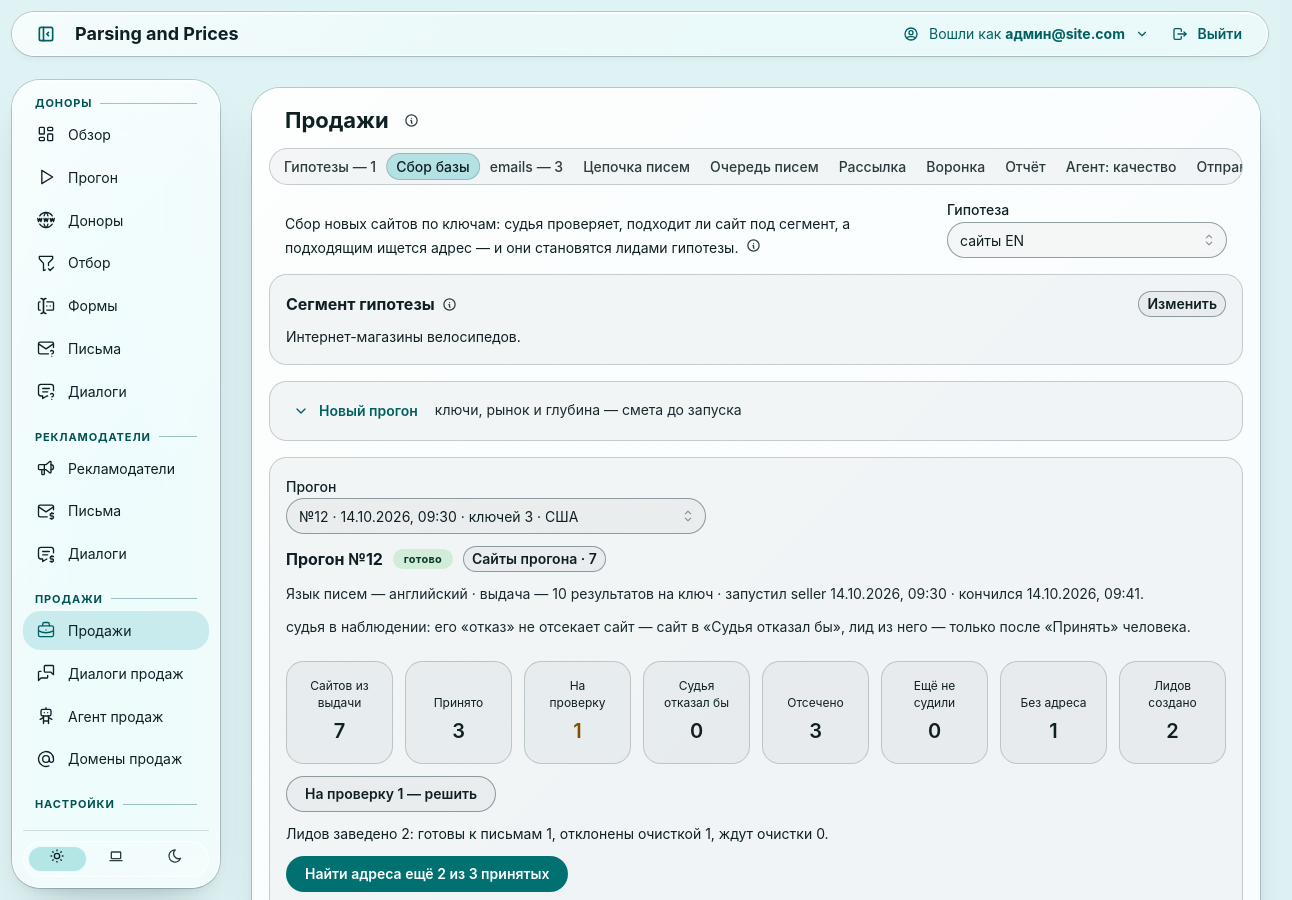
Test: сбор базы: ход прогона — экран › после «Найти адреса ещё …» экран сам переходит в «идёт» — без перезагрузки
This screenshot has width=1292, height=900.
Expected: the heading "Сегмент гипотезы" is shown, left=286, top=292, right=435, bottom=316
Click the button "Найти адреса ещё 2 из 3 принятых" at (427, 874), box left=286, top=856, right=568, bottom=892
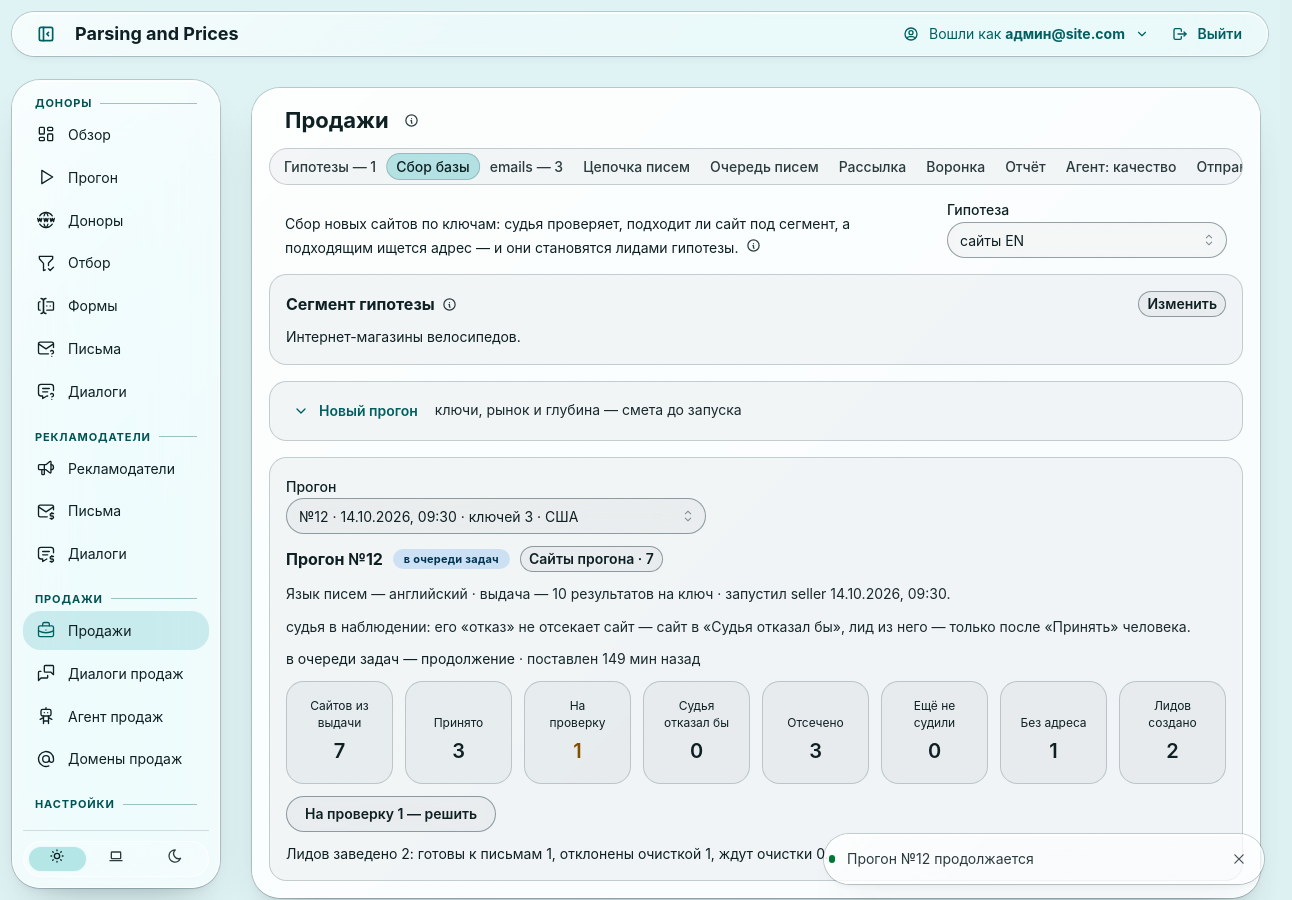
Expected: the message named "Ход прогона" shows "в очереди задач — продолжение", left=286, top=650, right=515, bottom=667
Expected: the button "Найти адреса ещё" is gone
